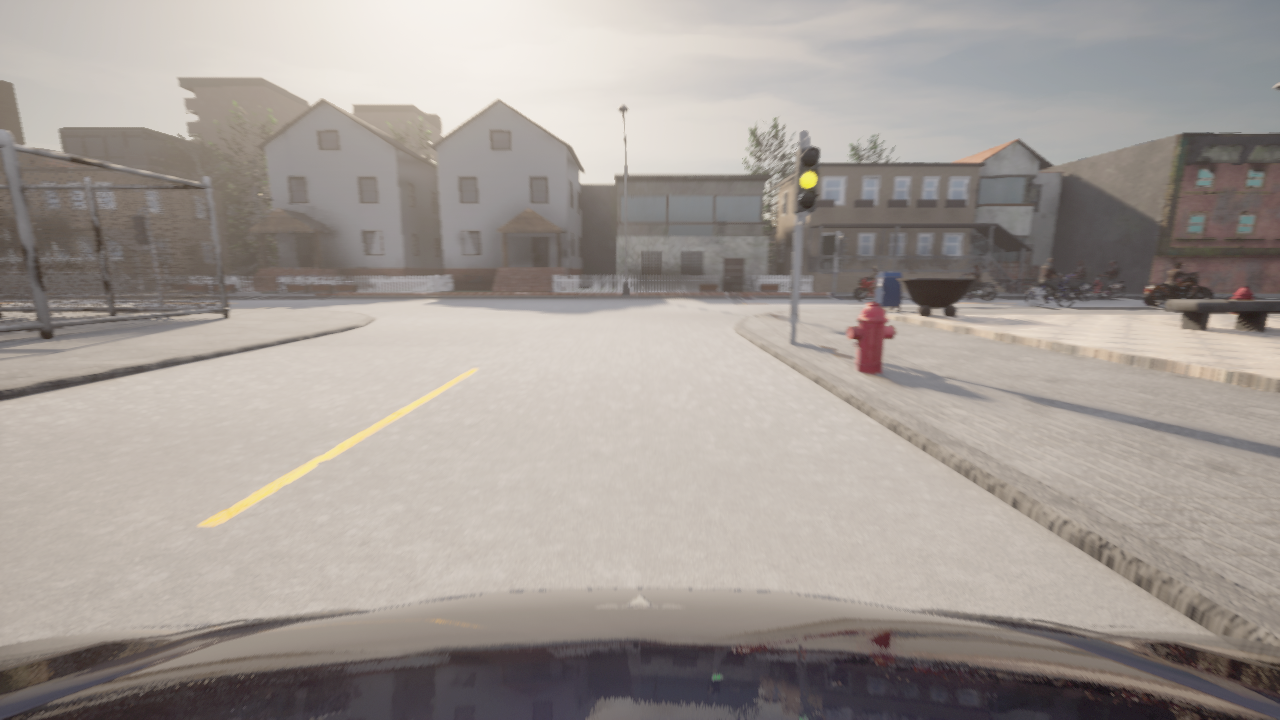cyclist: (0, 588, 1279, 719), (1143, 272, 1212, 305), (1026, 276, 1075, 306), (957, 271, 997, 300), (1053, 275, 1094, 300), (1084, 278, 1124, 299), (854, 274, 875, 299)
